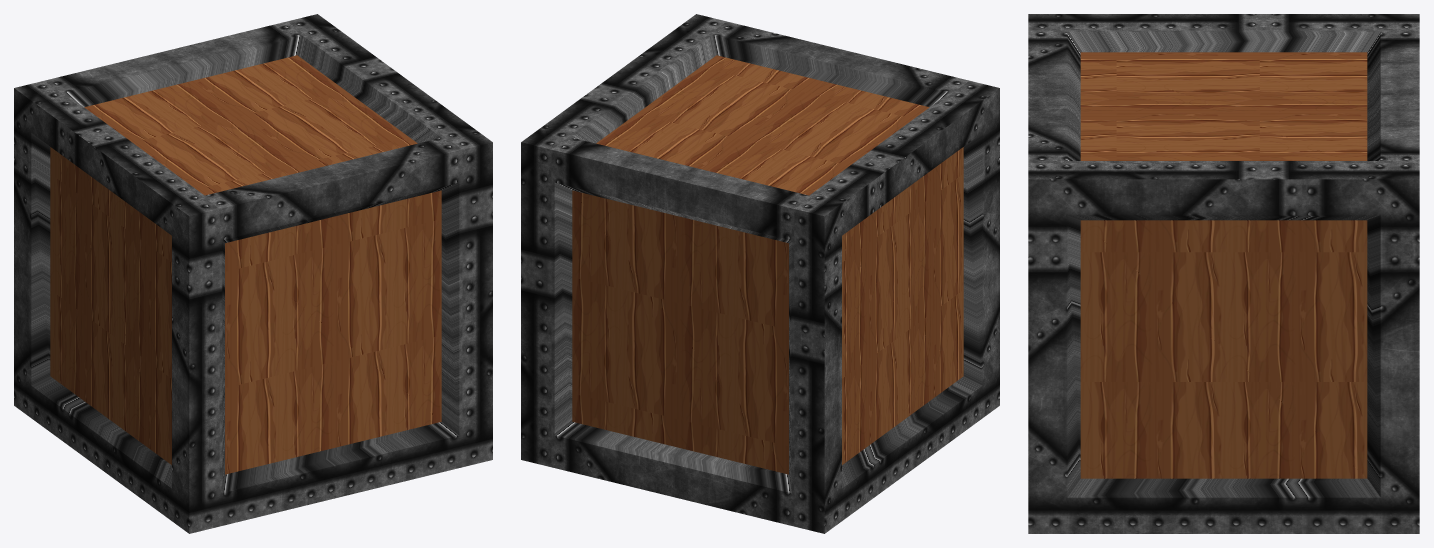
The model's file is crate.fbx.
3 renders of one model, left to right at view 1: azimuth 30°, elevation 25°; view 2: azimuth 150°, elevation 25°; view 3: azimuth 270°, elevation 25°, orthographic. The views are drawn at different scales.
Visible parts, largest first — view 1: pCube1; view 2: pCube1; view 3: pCube1.
Boxes of the visible parts, x1=… form: pCube1: x1=14, y1=14, x2=492, y2=533; pCube1: x1=521, y1=14, x2=999, y2=533; pCube1: x1=1028, y1=14, x2=1419, y2=533.
Bounding box in the file's own units: 14.6 × 14.6 × 14.6.
